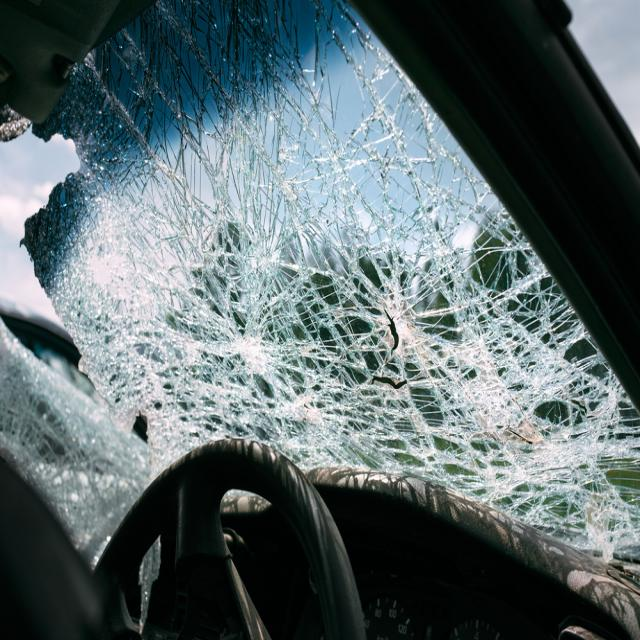glass shatter: (0, 0, 640, 591)
